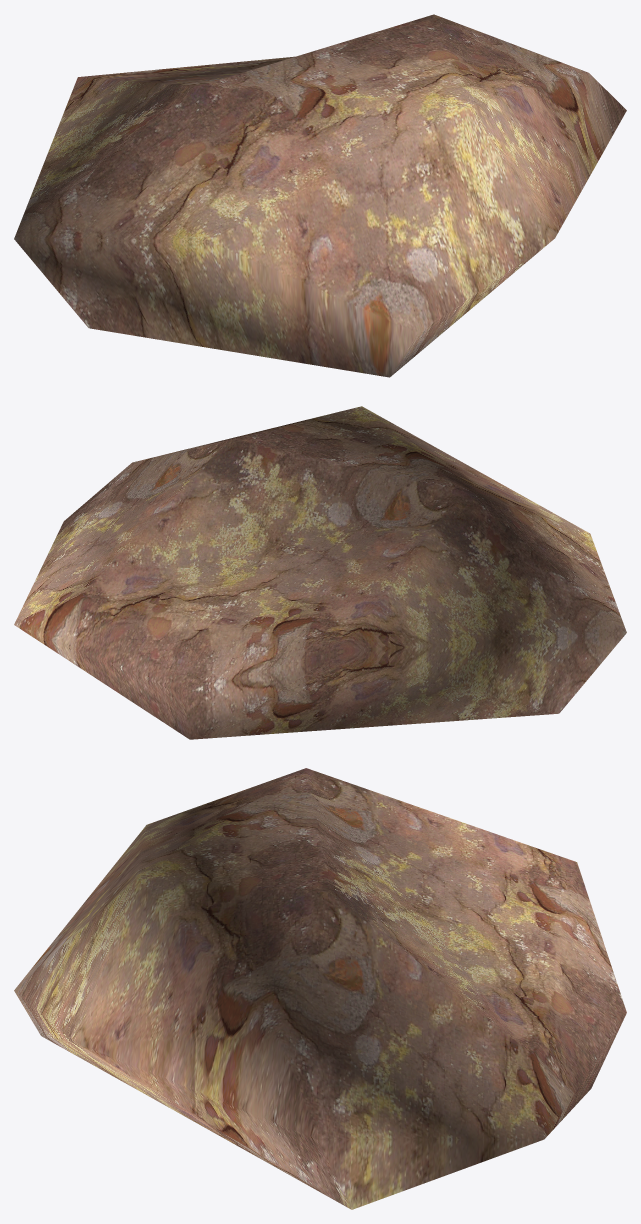
Rendered from boulder5.fbx.
The picture shows the model from 3 angles, top to bottom: view 1: azimuth 30°, elevation 25°; view 2: azimuth 150°, elevation 25°; view 3: azimuth 270°, elevation 25°; orthographic projection. The views are drawn at different scales.
Visible parts, largest first — view 1: boulder5; view 2: boulder5; view 3: boulder5.
Boxes of the visible parts, x1,y1,x2,y2 form: boulder5: [14, 14, 626, 377]; boulder5: [14, 406, 626, 739]; boulder5: [14, 768, 626, 1209].
Size of the model in its own units: 31235 by 10700 by 25100.
